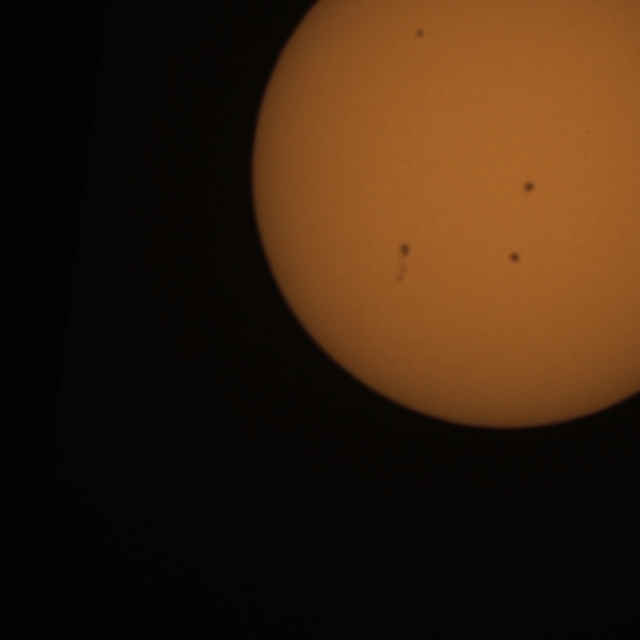sunspot: (394, 247, 412, 287), (397, 241, 412, 260), (507, 250, 522, 266), (522, 179, 536, 195), (413, 27, 426, 41)
